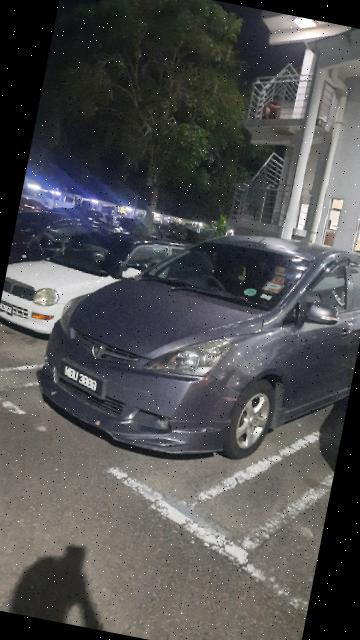License_Plate: (53, 357, 113, 405)
car: (29, 196, 360, 489)
